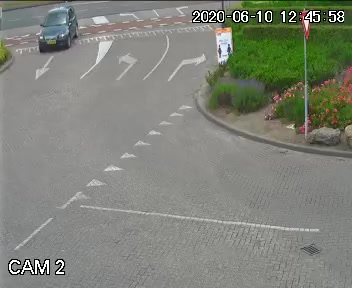car: (34, 6, 77, 57)
